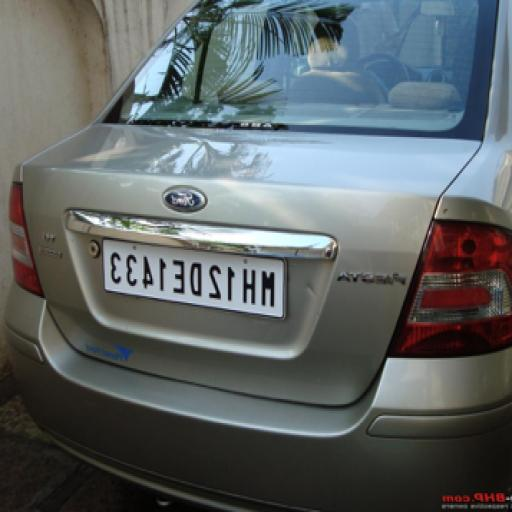License: (104, 236, 288, 315)
